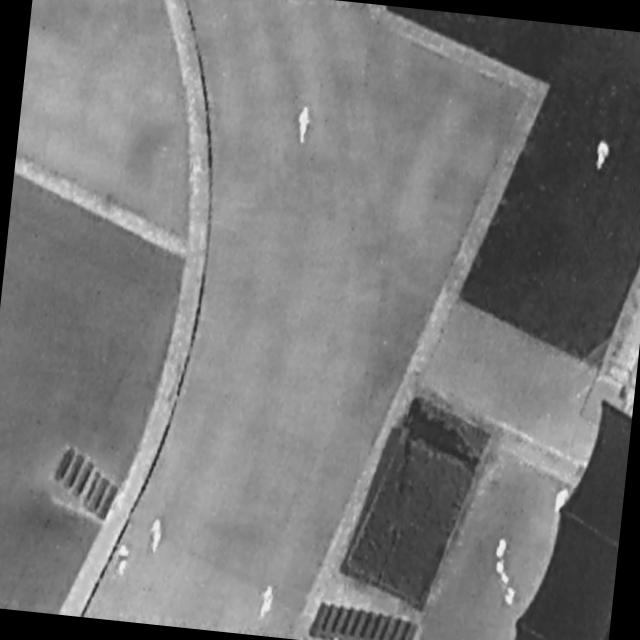person: (254, 579, 279, 626), (548, 480, 575, 522), (591, 135, 614, 174), (295, 101, 313, 146), (113, 543, 134, 579), (148, 517, 165, 556)
